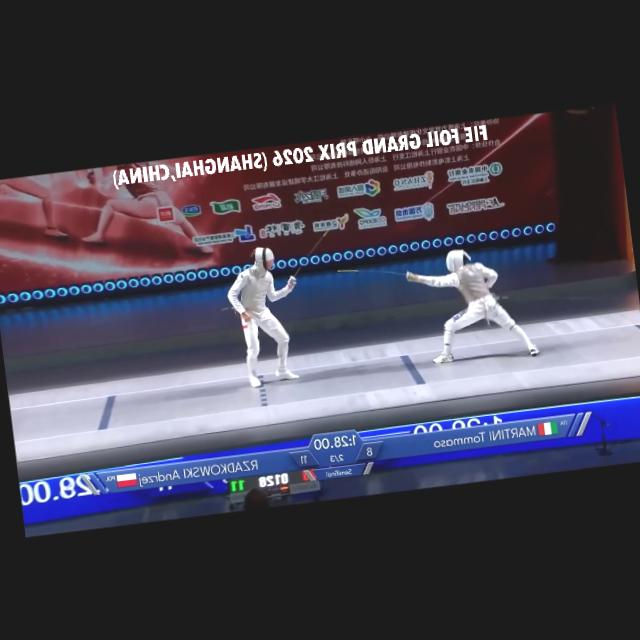blade: (277, 215, 346, 288), (330, 256, 419, 290)
